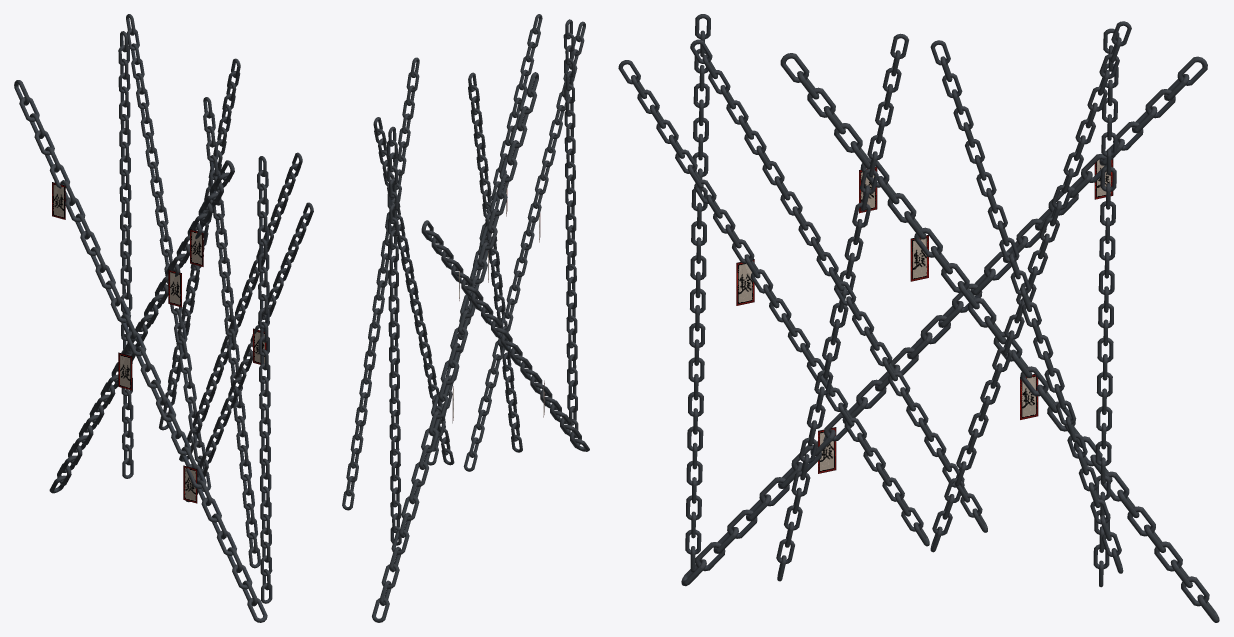
The model's file is Chain_Barrier.fbx.
The picture shows the model from 3 angles, left to right: view 1: azimuth 30°, elevation 25°; view 2: azimuth 150°, elevation 25°; view 3: azimuth 270°, elevation 25°; orthographic projection. The views are drawn at different scales.
Visible parts, largest first — view 1: pTorus29; view 2: pTorus29; view 3: pTorus29.
Boxes of the visible parts, box(x1,y1,x2,y2) form: pTorus29: box(14, 14, 313, 622); pTorus29: box(342, 14, 589, 622); pTorus29: box(618, 14, 1219, 622).
Bounding box in the file's own units: 1.16 × 4.4 × 3.84.
